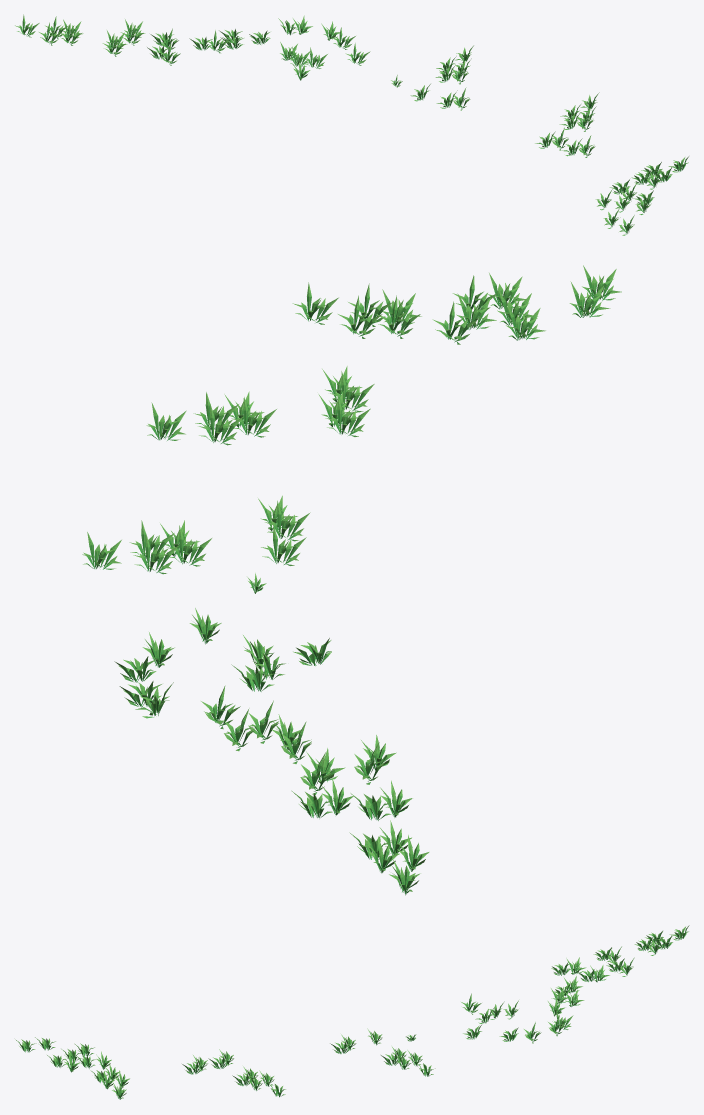
File: Area_09_48.fbx
3 renders of one model, top to bottom at view 1: azimuth 30°, elevation 25°; view 2: azimuth 150°, elevation 25°; view 3: azimuth 270°, elevation 25°, orthographic. The views are drawn at different scales.
Parts seen in each view (by area): view 1: Area_09_48; view 2: Area_09_48; view 3: Area_09_48.
Part boxes in pixels (x1,y1,x2,y2): Area_09_48: [15, 14, 688, 235]; Area_09_48: [82, 265, 621, 895]; Area_09_48: [15, 925, 689, 1099].
Size of the model in its own units: 2029 by 93.02 by 3465.
